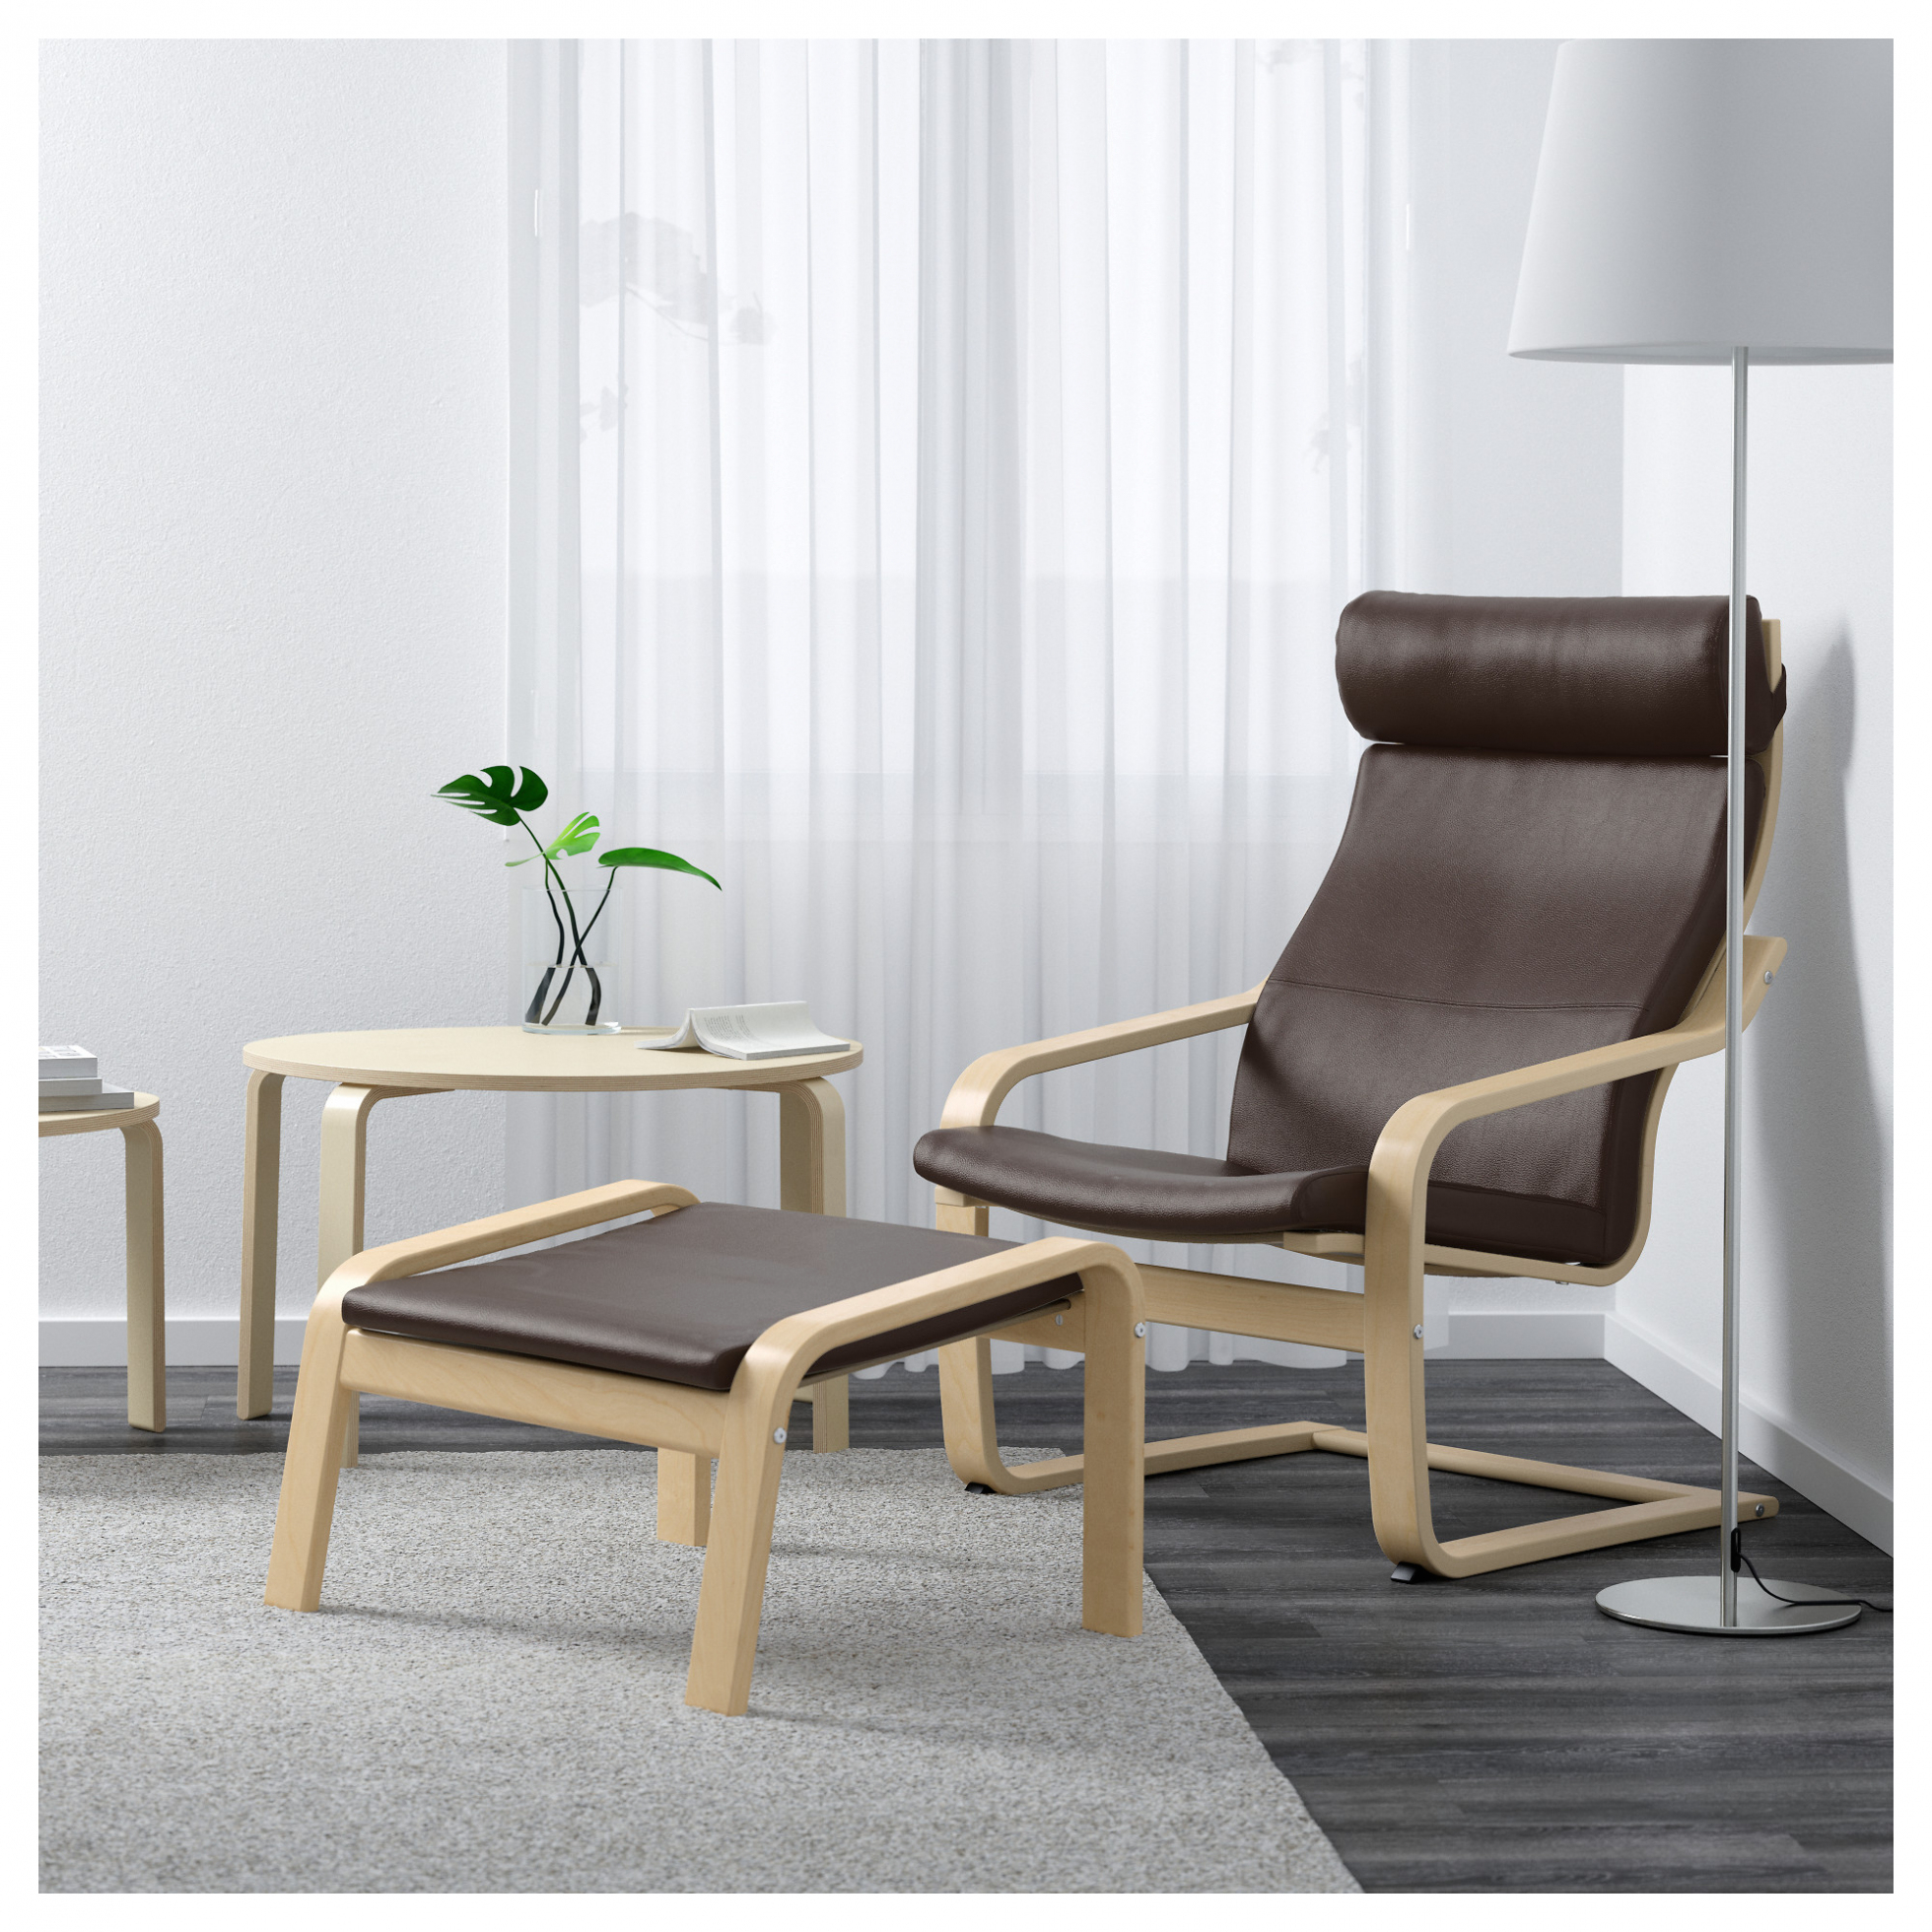chairs: (918, 568, 1806, 1594), (258, 1177, 1166, 1714)
